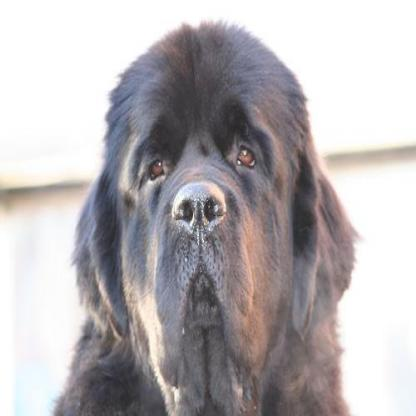Newfoundland: (48, 12, 366, 414)
